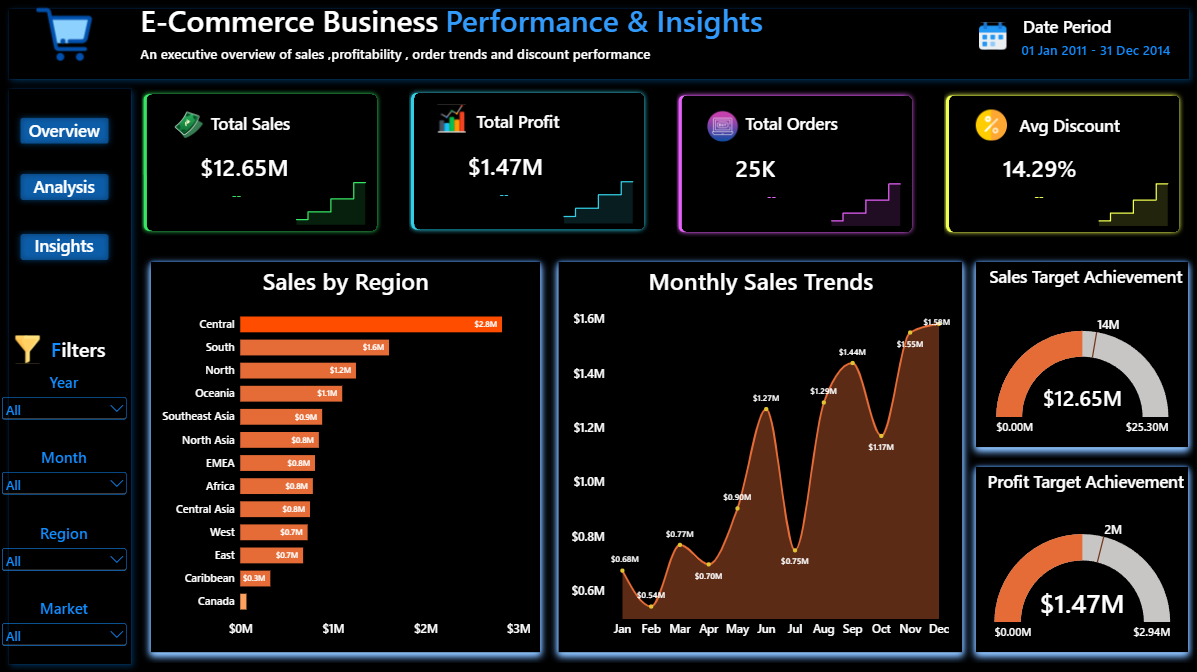

This screenshot's page, from the dashboard's own definition file:
{"tool":"powerbi","page":{"name":"overview","canvas":[1920,1080],"ordinal":0},"visuals":[{"type":"shape","box":[0,128.3,226.7,951.7],"z":0},{"type":"shape","box":[1546.7,403.3,373.3,330],"z":0,"group":"g16"},{"type":"actionButton","box":[0,525,91.7,68.3],"z":0,"group":"g1"},{"type":"shape","box":[1546.2,731.2,373.3,330],"z":0,"group":"g17"},{"type":"shape","box":[0,0,1920,143.3],"z":1000},{"type":"gauge","fields":{"TargetValue":["Data Cleaning.Sales Target"],"Y":["Data Cleaning.Total Sales"]},"box":[1570,483.3,326.7,233.3],"z":1000,"group":"g16"},{"type":"textbox","box":[46.7,537.7,161.7,55.6],"z":1000,"group":"g1"},{"type":"gauge","fields":{"TargetValue":["Data Cleaning.Profit Target"],"Y":["Data Cleaning.Total Profit"]},"box":[1569.5,811.2,326.7,233.3],"z":1000,"group":"g17"},{"type":"actionButton","box":[0,0,208.3,115],"z":2000},{"type":"textbox","box":[1558.8,425,361.2,70],"z":2000,"group":"g16"},{"type":"textbox","box":[1558.3,752.9,361.2,70],"z":2000,"group":"g17"},{"type":"textbox","box":[226.7,0,486.7,71.7],"z":3000},{"type":"textbox","box":[713.3,0,833.3,71.7],"z":4000},{"type":"actionButton","box":[1540,25,100,66.7],"z":5000},{"type":"textbox","box":[1638.3,25,281.7,46.7],"z":6000},{"type":"textbox","box":[226.7,71.7,1053.3,43.3],"z":7000},{"type":"group","id":"g1","title":"Group 1","box":[0,525,208.3,68.3],"z":8000},{"type":"group","id":"g2","title":"Group 3","box":[0,579.9,209,98.4],"z":9000},{"type":"group","id":"g3","title":"Group 3","box":[0,700.6,209,98.4],"z":10000},{"type":"shape","box":[656.3,142.3,385.1,235.3],"z":11000,"group":"g7"},{"type":"shape","box":[227.3,143.6,385.1,235.3],"z":11000,"group":"g6"},{"type":"shape","box":[1084.7,145.6,385.1,235.3],"z":11000,"group":"g8"},{"type":"shape","box":[1512.9,146.9,385.1,235.3],"z":11000,"group":"g9"},{"type":"group","id":"g4","title":"Group 3","box":[0,821.2,209,98.4],"z":11000},{"type":"actionButton","box":[674.1,153.9,100.3,74.9],"z":12000,"group":"g7"},{"type":"actionButton","box":[252.6,163.8,100.3,74.9],"z":12000,"group":"g6"},{"type":"actionButton","box":[1538.9,165.3,100.3,74.9],"z":12000,"group":"g9"},{"type":"actionButton","box":[1108,165.9,100.3,74.9],"z":12000,"group":"g8"},{"type":"slicer","fields":{"Values":["Data Cleaning.year"]},"box":[0,631.9,209,46.4],"z":12000,"group":"g2"},{"type":"slicer","fields":{"Values":["Date.Month"]},"box":[0,752.6,209,46.4],"z":12000,"group":"g3"},{"type":"slicer","fields":{"Values":["Data Cleaning.region"]},"box":[0,873.2,209,46.4],"z":12000,"group":"g4"},{"type":"group","id":"g5","title":"Group 3","box":[0,941.8,209,98.4],"z":12000},{"type":"slicer","fields":{"Values":["Data Cleaning.market"]},"box":[0,993.8,209,46.4],"z":12000,"group":"g5"},{"type":"group","id":"g6","title":"Group 4","box":[227.1,143.6,385.2,235.3],"z":13000},{"type":"textbox","box":[759.2,178.4,140.4,50.8],"z":13000,"group":"g7"},{"type":"textbox","box":[1177.6,179.6,180.2,53],"z":13000,"group":"g8"},{"type":"textbox","box":[330.2,179.7,140.4,50.8],"z":13000,"group":"g6"},{"type":"textbox","box":[1616.1,184.9,193.8,48.5],"z":13000,"group":"g9"},{"type":"group","id":"g7","title":"Group 4","box":[656.1,142.3,385.2,235.3],"z":14000},{"type":"cardVisual","fields":{"Data":["Data Cleaning.Total Profit"]},"box":[733.3,229.4,230,72.2],"z":14000,"group":"g7"},{"type":"cardVisual","fields":{"Data":["Data Cleaning.Total Sales"]},"box":[304.3,230.7,230,72.2],"z":14000,"group":"g6"},{"type":"cardVisual","fields":{"Data":["Data Cleaning.Total Orders"]},"box":[1161.7,232.7,230,72.2],"z":14000,"group":"g8"},{"type":"cardVisual","fields":{"Data":["Data Cleaning.Avg Discount"]},"box":[1589.9,234,230,72.2],"z":14000,"group":"g9"},{"type":"group","id":"g8","title":"Group 4","box":[1084.5,145.6,385.2,235.3],"z":15000},{"type":"lineChart","fields":{"Category":["Data Cleaning.year"],"Y":["Data Cleaning.Total Profit"]},"box":[878.7,249.1,162,127.2],"z":15000,"group":"g7"},{"type":"lineChart","fields":{"Category":["Data Cleaning.year"],"Y":["Data Cleaning.Total Sales"]},"box":[449.7,250.4,162,127.2],"z":15000,"group":"g6"},{"type":"lineChart","fields":{"Category":["Data Cleaning.year"],"Y":["Data Cleaning.Total Sales"]},"box":[1307.1,252.4,162,127.2],"z":15000,"group":"g8"},{"type":"lineChart","fields":{"Category":["Data Cleaning.year"],"Y":["Data Cleaning.Total Sales"]},"box":[1735.3,253.7,162,127.2],"z":15000,"group":"g9"},{"type":"group","id":"g9","title":"Group 4","box":[1512.7,146.9,385.2,235.3],"z":16000},{"type":"cardVisual","fields":{"Data":["Data Cleaning.Profit Growth %"]},"box":[656.1,280.9,304.4,63.6],"z":16000,"group":"g7"},{"type":"cardVisual","fields":{"Data":["Data Cleaning.Sales Growth %"]},"box":[227.1,282.2,304.4,63.6],"z":16000,"group":"g6"},{"type":"cardVisual","fields":{"Data":["Data Cleaning.Orders Growth %"]},"box":[1084.5,284.2,304.4,63.6],"z":16000,"group":"g8"},{"type":"cardVisual","fields":{"Data":["Data Cleaning.Discount Growth %"]},"box":[1512.7,285.5,304.4,63.6],"z":16000,"group":"g9"},{"type":"cardVisual","fields":{"Data":["Date.Date Period"]},"box":[1620,48.3,285,66.7],"z":17000},{"type":"actionButton","box":[23.8,180,161.7,61.7],"z":18000},{"type":"actionButton","box":[56.2,579.9,95.7,60.7],"z":18000,"group":"g10"},{"type":"actionButton","box":[56.2,700.6,95.7,60.7],"z":18000,"group":"g11"},{"type":"actionButton","box":[56.2,821.2,95.7,60.7],"z":18000,"group":"g12"},{"type":"actionButton","box":[56.2,941.8,95.7,60.7],"z":18000,"group":"g13"},{"type":"shape","box":[226.7,403.3,656.7,658.3],"z":19000,"group":"g14"},{"type":"shape","box":[878.3,403.3,680.2,658.3],"z":19000,"group":"g15"},{"type":"textbox","box":[227,930,158,150],"z":19000},{"type":"textbox","box":[56.2,596.7,95.7,43.9],"z":19500,"group":"g10"},{"type":"textbox","box":[56.2,717.4,95.7,43.9],"z":19500,"group":"g11"},{"type":"textbox","box":[56.2,838,95.7,43.9],"z":19500,"group":"g12"},{"type":"textbox","box":[56.2,958.6,95.7,43.9],"z":19500,"group":"g13"},{"type":"group","id":"g10","title":"Group 2","box":[56.2,579.9,95.7,62.4],"z":19501,"group":"g2"},{"type":"group","id":"g11","title":"Group 2","box":[56.2,700.6,95.7,62.4],"z":19501,"group":"g3"},{"type":"group","id":"g12","title":"Group 2","box":[56.2,821.2,95.7,62.4],"z":19501,"group":"g4"},{"type":"group","id":"g13","title":"Group 2","box":[56.2,941.8,95.7,62.4],"z":19501,"group":"g5"},{"type":"textbox","box":[40,191.5,128.5,48.5],"z":20000},{"type":"actionButton","box":[24,270,161.7,61.7],"z":21000},{"type":"textbox","box":[899.9,425.8,638.3,81.7],"z":21000,"group":"g15"},{"type":"barChart","fields":{"Category":["Data Cleaning.region"],"Y":["Data Cleaning.Total Sales"]},"box":[243.9,469,621.8,571],"z":21000,"group":"g14"},{"type":"textbox","box":[40,281,128,36],"z":22000},{"type":"textbox","box":[244.1,425,621.6,58.3],"z":22000,"group":"g14"},{"type":"lineChart","fields":{"Category":["Date.Month"],"Y":["Data Cleaning.Total Sales"]},"box":[899.9,484.1,638.3,556.7],"z":22000,"group":"g15"},{"type":"actionButton","box":[23,365,161.7,61.7],"z":23000},{"type":"textbox","box":[227,930,158,150],"z":24000},{"type":"textbox","box":[40,376,128,40],"z":25000},{"type":"group","id":"g14","title":"Group 5","box":[226.7,403.3,656.7,658.3],"z":26000},{"type":"group","id":"g15","title":"Group 6","box":[878.3,403.3,680,656.7],"z":27000},{"type":"group","id":"g16","title":"Group 7","box":[1546.7,403.3,373.3,330],"z":28000},{"type":"group","id":"g17","title":"Group 7","box":[1546.2,731.2,373.8,330],"z":29000}]}

Visuals, with their boxes in screenshot pixels (x1, y1, x2, y2), scaled from the page's 1920x1080 canvas onto the 1197x672 screenshot:
shape: bbox=(0, 80, 141, 671)
shape: bbox=(964, 251, 1196, 456)
actionButton: bbox=(0, 327, 57, 369)
shape: bbox=(964, 455, 1196, 660)
shape: bbox=(0, 0, 1196, 89)
gauge - Data Cleaning.Sales Target x Data Cleaning.Total Sales: bbox=(979, 301, 1182, 446)
textbox: bbox=(29, 335, 130, 369)
gauge - Data Cleaning.Profit Target x Data Cleaning.Total Profit: bbox=(978, 505, 1182, 650)
actionButton: bbox=(0, 0, 130, 72)
textbox: bbox=(972, 264, 1196, 308)
textbox: bbox=(972, 468, 1196, 512)
textbox: bbox=(141, 0, 445, 45)
textbox: bbox=(445, 0, 964, 45)
actionButton: bbox=(960, 16, 1022, 57)
textbox: bbox=(1021, 16, 1196, 45)
textbox: bbox=(141, 45, 798, 72)
"Group 1" group: bbox=(0, 327, 130, 369)
"Group 3" group: bbox=(0, 361, 130, 422)
"Group 3" group: bbox=(0, 436, 130, 497)
shape: bbox=(409, 89, 649, 235)
shape: bbox=(142, 89, 382, 236)
shape: bbox=(676, 91, 916, 237)
shape: bbox=(943, 91, 1183, 238)
"Group 3" group: bbox=(0, 511, 130, 572)
actionButton: bbox=(420, 96, 483, 142)
actionButton: bbox=(157, 102, 220, 149)
actionButton: bbox=(959, 103, 1022, 149)
actionButton: bbox=(691, 103, 753, 150)
slicer - Data Cleaning.year: bbox=(0, 393, 130, 422)
slicer - Date.Month: bbox=(0, 468, 130, 497)
slicer - Data Cleaning.region: bbox=(0, 543, 130, 572)
"Group 3" group: bbox=(0, 586, 130, 647)
slicer - Data Cleaning.market: bbox=(0, 618, 130, 647)
"Group 4" group: bbox=(142, 89, 382, 236)
textbox: bbox=(473, 111, 561, 143)
textbox: bbox=(734, 112, 847, 145)
textbox: bbox=(206, 112, 293, 143)
textbox: bbox=(1008, 115, 1128, 145)
"Group 4" group: bbox=(409, 89, 649, 235)
cardVisual - Data Cleaning.Total Profit: bbox=(457, 143, 601, 188)
cardVisual - Data Cleaning.Total Sales: bbox=(190, 144, 333, 188)
cardVisual - Data Cleaning.Total Orders: bbox=(724, 145, 868, 190)
cardVisual - Data Cleaning.Avg Discount: bbox=(991, 146, 1135, 191)
"Group 4" group: bbox=(676, 91, 916, 237)
lineChart - Data Cleaning.year x Data Cleaning.Total Profit: bbox=(548, 155, 649, 234)
lineChart - Data Cleaning.year x Data Cleaning.Total Sales: bbox=(280, 156, 381, 235)
lineChart - Data Cleaning.year x Data Cleaning.Total Sales: bbox=(815, 157, 916, 236)
lineChart - Data Cleaning.year x Data Cleaning.Total Sales: bbox=(1082, 158, 1183, 237)
"Group 4" group: bbox=(943, 91, 1183, 238)
cardVisual - Data Cleaning.Profit Growth %: bbox=(409, 175, 599, 214)
cardVisual - Data Cleaning.Sales Growth %: bbox=(142, 176, 331, 215)
cardVisual - Data Cleaning.Orders Growth %: bbox=(676, 177, 866, 216)
cardVisual - Data Cleaning.Discount Growth %: bbox=(943, 178, 1133, 217)
cardVisual - Date.Date Period: bbox=(1010, 30, 1188, 72)
actionButton: bbox=(15, 112, 116, 150)
actionButton: bbox=(35, 361, 95, 399)
actionButton: bbox=(35, 436, 95, 474)
actionButton: bbox=(35, 511, 95, 549)
actionButton: bbox=(35, 586, 95, 624)
shape: bbox=(141, 251, 551, 661)
shape: bbox=(548, 251, 972, 661)
textbox: bbox=(142, 579, 240, 671)
textbox: bbox=(35, 371, 95, 399)
textbox: bbox=(35, 446, 95, 474)
textbox: bbox=(35, 521, 95, 549)
textbox: bbox=(35, 596, 95, 624)
"Group 2" group: bbox=(35, 361, 95, 400)
"Group 2" group: bbox=(35, 436, 95, 475)
"Group 2" group: bbox=(35, 511, 95, 550)
"Group 2" group: bbox=(35, 586, 95, 625)
textbox: bbox=(25, 119, 105, 149)
actionButton: bbox=(15, 168, 116, 206)
textbox: bbox=(561, 265, 959, 316)
barChart - Data Cleaning.region x Data Cleaning.Total Sales: bbox=(152, 292, 540, 647)
textbox: bbox=(25, 175, 105, 197)
textbox: bbox=(152, 264, 540, 301)
lineChart - Date.Month x Data Cleaning.Total Sales: bbox=(561, 301, 959, 648)
actionButton: bbox=(14, 227, 115, 266)
textbox: bbox=(142, 579, 240, 671)
textbox: bbox=(25, 234, 105, 259)
"Group 5" group: bbox=(141, 251, 551, 661)
"Group 6" group: bbox=(548, 251, 972, 660)
"Group 7" group: bbox=(964, 251, 1196, 456)
"Group 7" group: bbox=(964, 455, 1196, 660)
